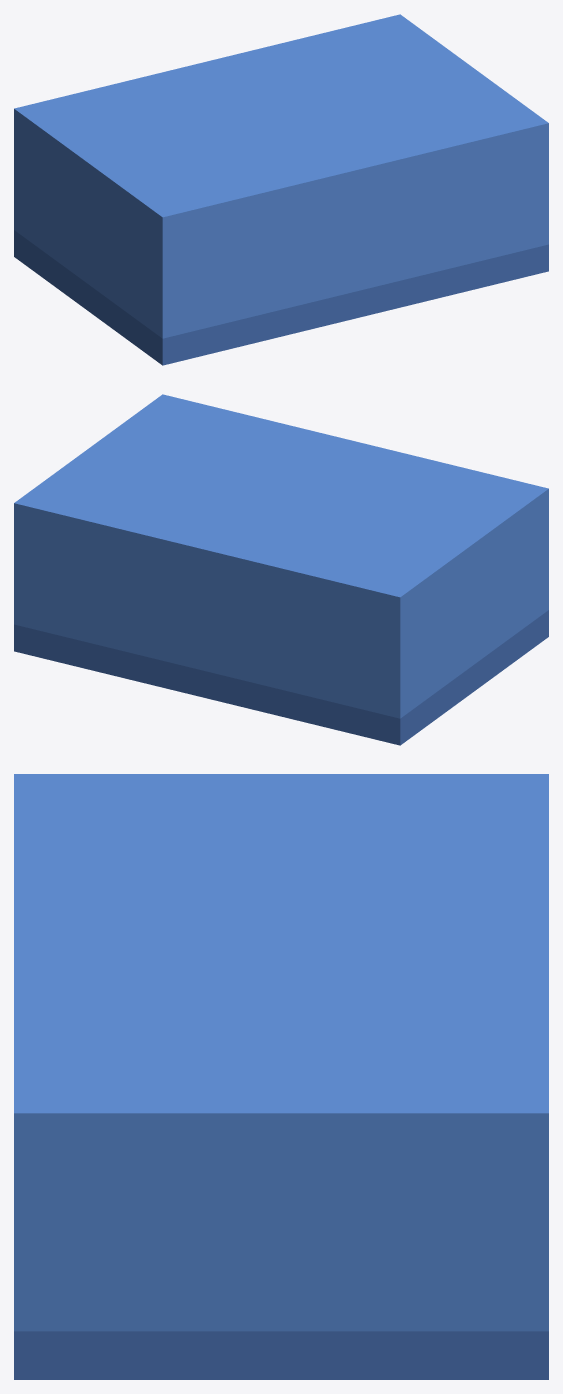
File: esquiador_saia.glb
3 renders of one model, top to bottom at view 1: azimuth 30°, elevation 25°; view 2: azimuth 150°, elevation 25°; view 3: azimuth 270°, elevation 25°, orthographic. The views are drawn at different scales.
Parts seen in each view (by area): view 1: esquiador_saia; view 2: esquiador_saia; view 3: esquiador_saia.
Boxes of the visible parts, <box> form: esquiador_saia: <box>14,14,548,365</box>; esquiador_saia: <box>14,394,548,745</box>; esquiador_saia: <box>14,774,548,1379</box>.
Size of the model in its own units: 0.6 by 0.22 by 0.4.
